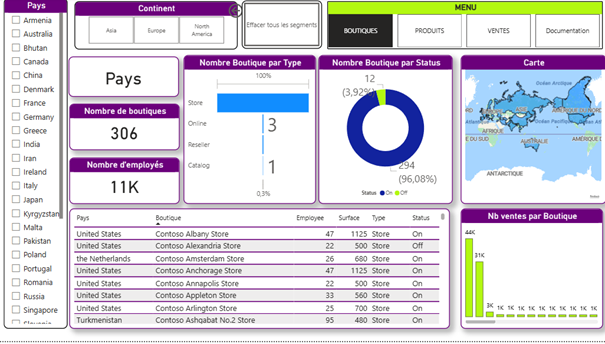

What the dashboard file says about the page in this screenshot:
{"tool":"powerbi","page":{"name":"BOUTIQUES","canvas":[1280,720],"ordinal":0},"visuals":[{"type":"slicer","title":"Continent","fields":{"Values":["Geographie.Continent"]},"box":[163.3,5.5,343.1,101.5],"z":0},{"type":"slicer","title":"Pays","fields":{"Values":["Geographie.Pays"]},"box":[13.7,0,134.5,694.3],"z":1000},{"type":"card","fields":{"Values":["Geographie.PaysSelected"]},"box":[150.9,122.1,231.9,85.1],"z":2000},{"type":"card","title":"Nombre de boutiques","fields":{"Values":["Boutiques.Nombre Boutique"]},"box":[152.3,222.3,231.9,97.4],"z":3000},{"type":"card","title":"Nombre d''employés","fields":{"Values":["Sum(Boutiques.Employee)"]},"box":[152.3,334.8,231.9,97.4],"z":4000},{"type":"funnel","fields":{"Category":["Boutiques.Type"],"Y":["Boutiques.Nombre Boutique"]},"box":[392.5,119.4,278.6,312.9],"z":5000},{"type":"donutChart","fields":{"Category":["Boutiques.Status"],"Y":["Boutiques.Nombre Boutique"]},"box":[675.1,119.4,282.7,312.9],"z":6000},{"type":"azureMap","title":"Carte","fields":{"Category":["Geographie.Pays","Geographie.Continent"]},"box":[974.3,119.4,306,312.9],"z":7000},{"type":"tableEx","fields":{"Values":["Geographie.Pays","Boutiques.Boutique","Boutiques.Employee","Boutiques.Surface","Boutiques.Type","Boutiques.Status"]},"box":[152.3,441.9,800,252.5],"z":8000},{"type":"actionButton","box":[481.6,5.5,100.2,39.8],"z":9000},{"type":"columnChart","fields":{"Category":["Boutiques.Boutique"],"Y":["Sales.Nb ventes"]},"box":[974.3,441.9,299.1,252.5],"z":10000},{"type":"actionButton","box":[515,5,168.8,101.2],"z":11000},{"type":"pageNavigator","title":"MENU","box":[694.4,5.6,578.9,101.1],"z":12000}]}

Visuals, with their boxes in screenshot pixels (x1, y1, x2, y2), scaled from the page's 1280x720 canvas onto the 605x344 screenshot:
"Continent" slicer: 77 3 239 51
"Pays" slicer: 6 0 70 332
card - Geographie.PaysSelected: 71 58 181 99
"Nombre de boutiques" card: 72 106 182 153
"Nombre d''employés" card: 72 160 182 206
funnel - Boutiques.Type x Boutiques.Nombre Boutique: 186 57 317 207
donutChart - Boutiques.Status x Boutiques.Nombre Boutique: 319 57 453 207
"Carte" azureMap: 461 57 604 207
tableEx - Geographie.Pays x Boutiques.Boutique: 72 211 450 332
actionButton: 228 3 275 22
columnChart - Boutiques.Boutique x Sales.Nb ventes: 461 211 602 332
actionButton: 243 2 323 51
"MENU" pageNavigator: 328 3 602 51
